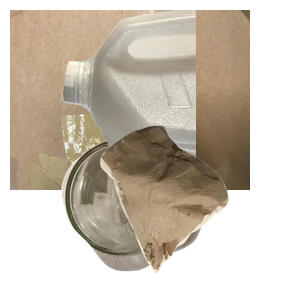cardboard: (10, 10, 250, 190)
glass: (59, 135, 254, 300)
plastic: (60, 10, 300, 190)
trash: (98, 123, 300, 300)
